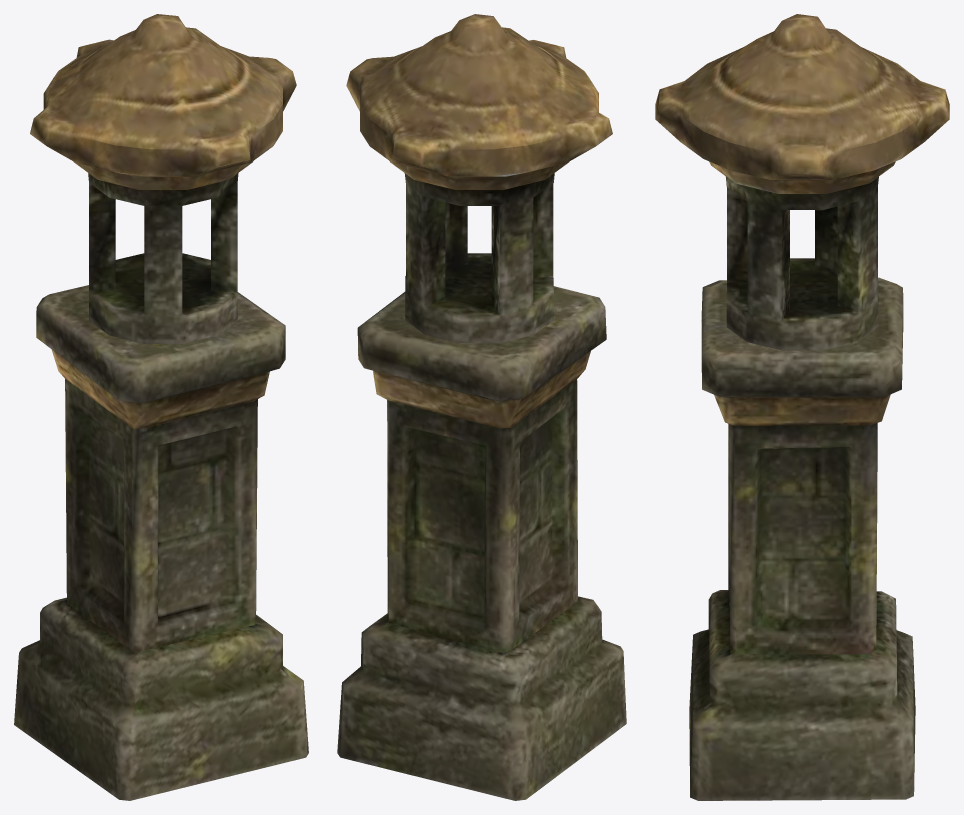
Rendered from Lantern_QuadPillar_cover-transformed.glb.
3 views of the same model, side by side, from view 1: azimuth 30°, elevation 25°; view 2: azimuth 150°, elevation 25°; view 3: azimuth 270°, elevation 25° (orthographic). The views are drawn at different scales.
Visible parts, largest first — view 1: default; view 2: default; view 3: default.
Part boxes in pixels (x1,y1,x2,y2): default: (14, 14, 308, 800); default: (337, 14, 626, 800); default: (655, 14, 949, 800).
Bounding box in the file's own units: 0.836 × 2.3 × 0.836.
Materials: 1 (1 with a texture image).
